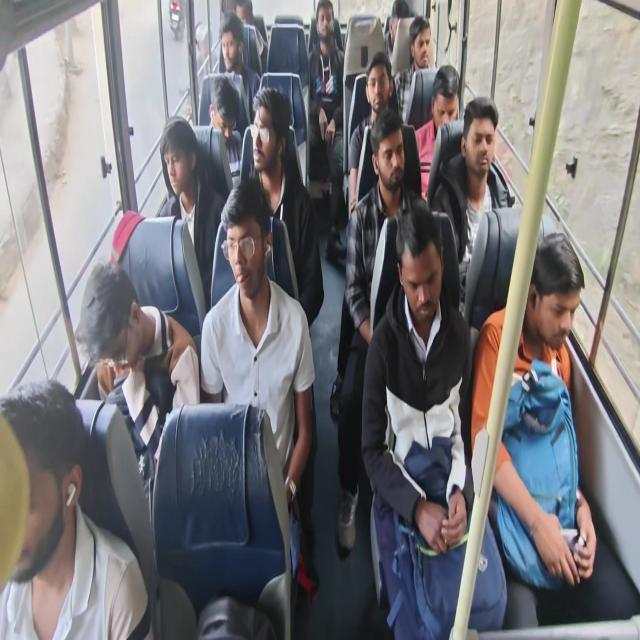person: (360, 201, 508, 638), (470, 231, 597, 593), (330, 108, 428, 555), (0, 378, 154, 638), (200, 176, 316, 514), (74, 258, 200, 520), (220, 85, 324, 328), (430, 95, 513, 315), (157, 115, 225, 311), (307, 1, 346, 260), (348, 51, 400, 217), (414, 64, 460, 200), (218, 11, 260, 134), (394, 15, 432, 124), (208, 74, 242, 183), (235, 0, 268, 77), (384, 0, 409, 61)
